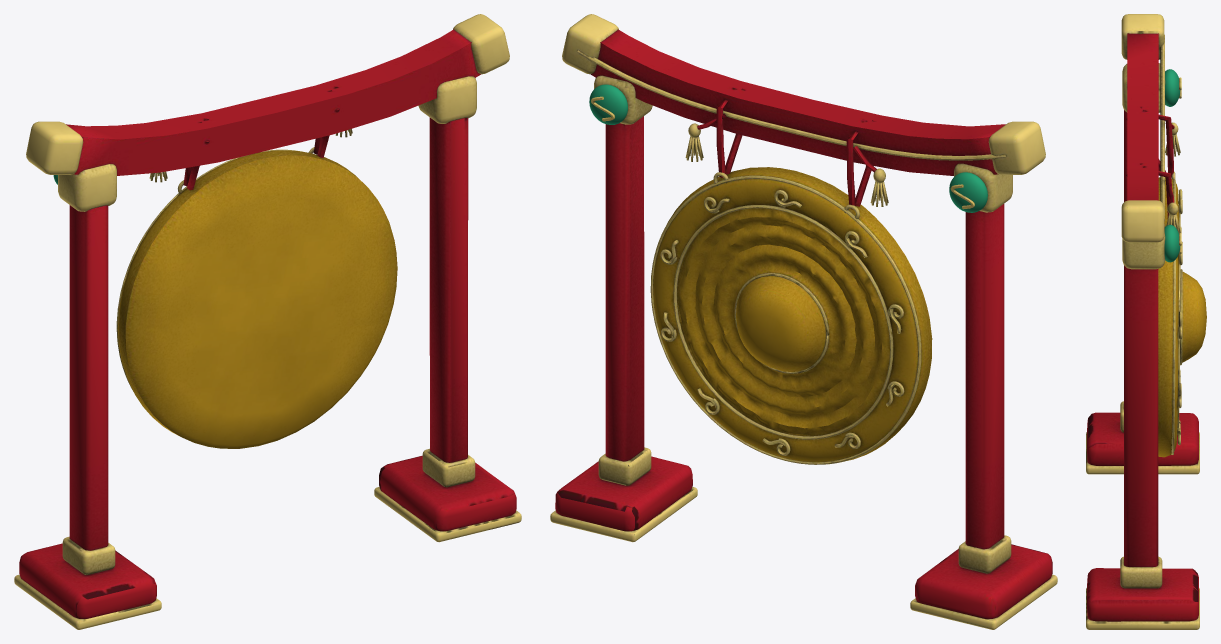
3 renders of one model, left to right at view 1: azimuth 30°, elevation 25°; view 2: azimuth 150°, elevation 25°; view 3: azimuth 270°, elevation 25°, orthographic. The views are drawn at different scales.
Visible parts, largest first — view 1: Warm_bronze_gold_gong, Glossy_cinnabar_lacquer_and_silk, Festival_polished_gold; view 2: Glossy_cinnabar_lacquer_and_silk, Warm_bronze_gold_gong, Festival_polished_gold, glow_Carved_green_jade; view 3: Glossy_cinnabar_lacquer_and_silk, Festival_polished_gold, Warm_bronze_gold_gong, glow_Carved_green_jade.
Boxes of the visible parts, x1,y1,x2,y2 form: Warm_bronze_gold_gong: (117,150,397,448); Glossy_cinnabar_lacquer_and_silk: (19,29,516,618); Festival_polished_gold: (14,14,521,629); Glossy_cinnabar_lacquer_and_silk: (555,29,1052,618); Warm_bronze_gold_gong: (653,167,932,462); Festival_polished_gold: (550,14,1057,629); glow_Carved_green_jade: (589,84,987,212); Glossy_cinnabar_lacquer_and_silk: (1087,33,1198,621); Festival_polished_gold: (1086,14,1199,629); Warm_bronze_gold_gong: (1158,177,1206,457); glow_Carved_green_jade: (1164,69,1180,262).
Bounding box in the file's own units: 2.72 × 2.67 × 0.6899.
Materials: 4 (3 with a texture image).
